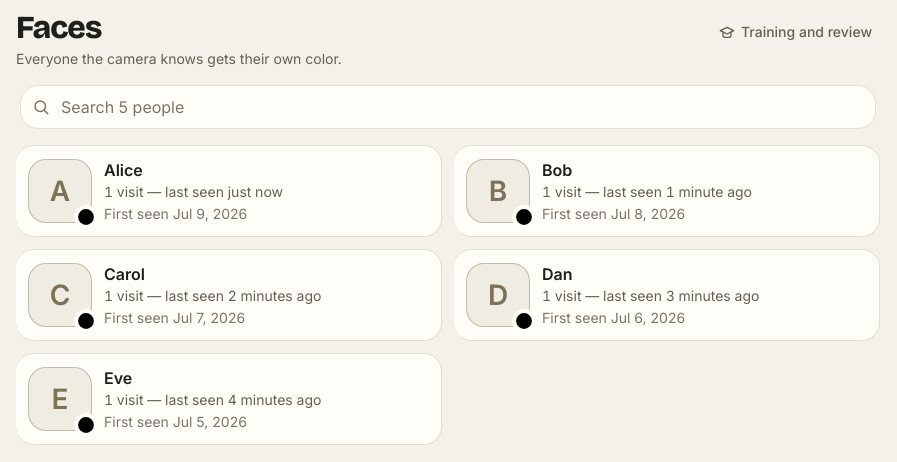
it: People page › given the user types into search, when the input changes, then only matching people render (iter-341)
Type "al" into the search field named "search people" at (448, 107), box top-left (20, 85), bottom-right (876, 129)
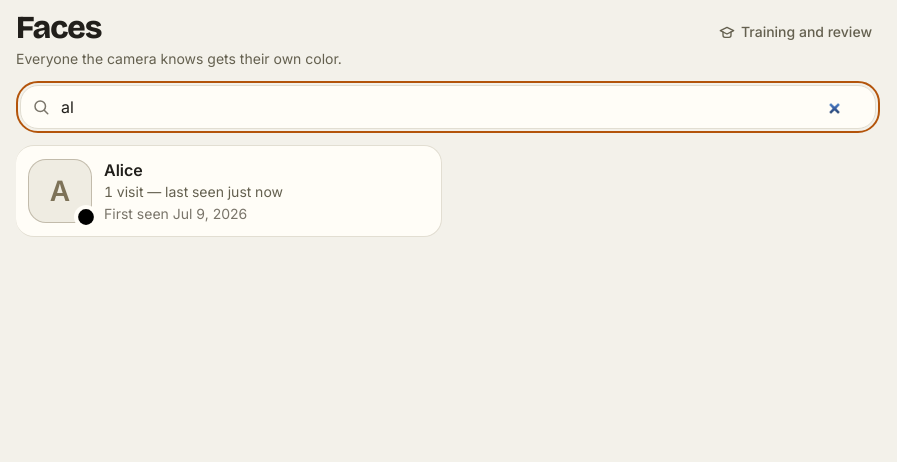
Check: the button "A Alice 1 visit — last seen just now First seen Jul 9, 2026" is shown, box top-left (16, 145), bottom-right (442, 237)
Check: the button "Bob" is gone
Check: the button "Carol" is gone
